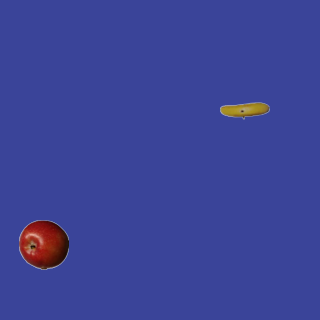Apple Braeburn: (18, 219, 68, 269)
Banana: (219, 85, 269, 135)
